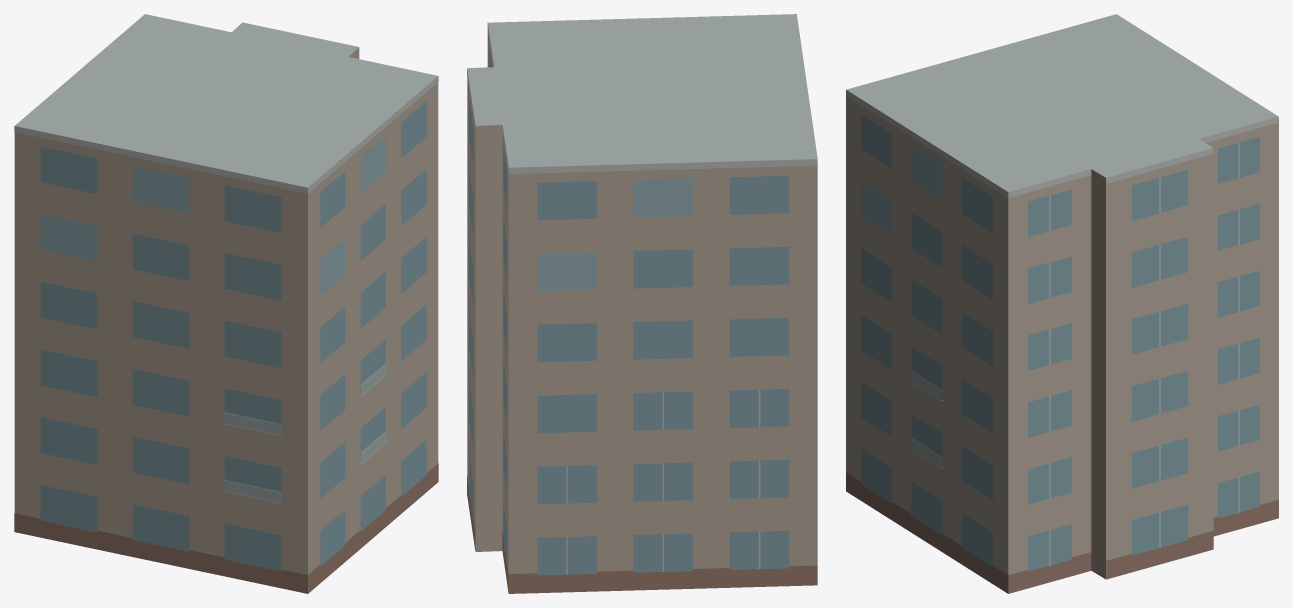
Rendered from survey-upis-32891776.glb.
3 renders of one model, left to right at view 1: azimuth 30°, elevation 25°; view 2: azimuth 150°, elevation 25°; view 3: azimuth 270°, elevation 25°, orthographic. The views are drawn at different scales.
Parts seen in each view (by area): view 1: survey-upis-32891776.tmp; view 2: survey-upis-32891776.tmp; view 3: survey-upis-32891776.tmp.
Boxes of the visible parts, left/top/right/bottom form: survey-upis-32891776.tmp: left=14, top=14, right=438, bottom=593; survey-upis-32891776.tmp: left=467, top=14, right=817, bottom=593; survey-upis-32891776.tmp: left=846, top=14, right=1278, bottom=593.
Bounding box in the file's own units: 15.32 × 16.1 × 15.73.
